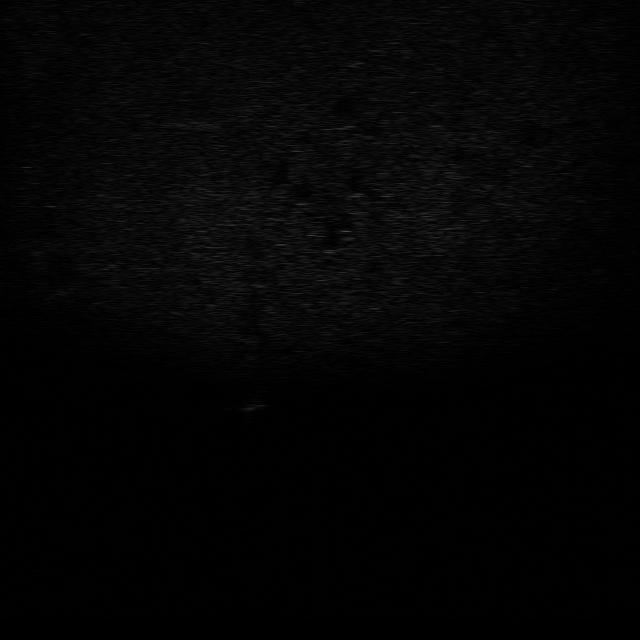human body: (238, 380, 268, 425)
